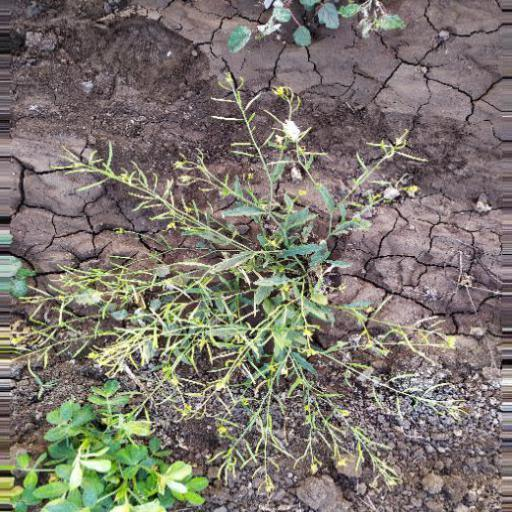weed: (70, 160, 449, 448)
